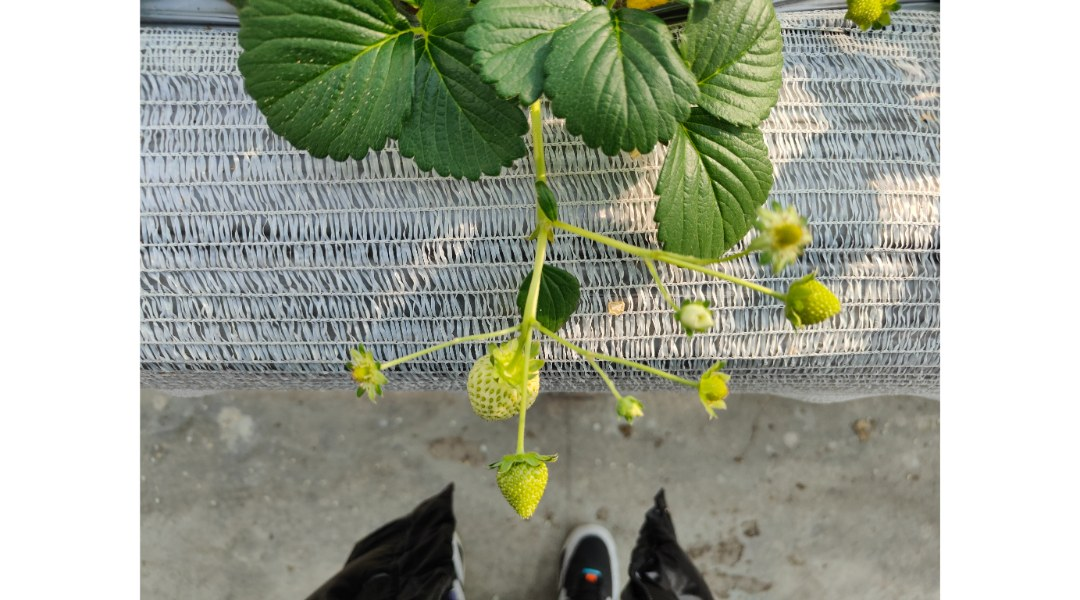berry: (460, 337, 554, 428), (483, 454, 561, 526), (754, 191, 814, 275), (763, 276, 851, 333), (673, 363, 745, 421), (336, 341, 394, 405)
strain: (385, 312, 512, 373), (601, 348, 697, 386), (515, 235, 557, 321), (666, 262, 786, 291), (571, 205, 634, 258), (506, 340, 534, 453), (530, 90, 556, 209), (581, 372, 627, 392)
